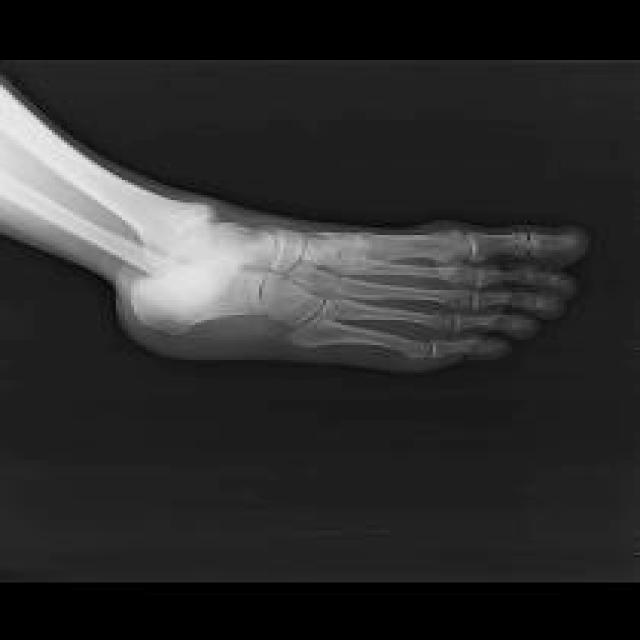normal: (0, 99, 585, 359)
